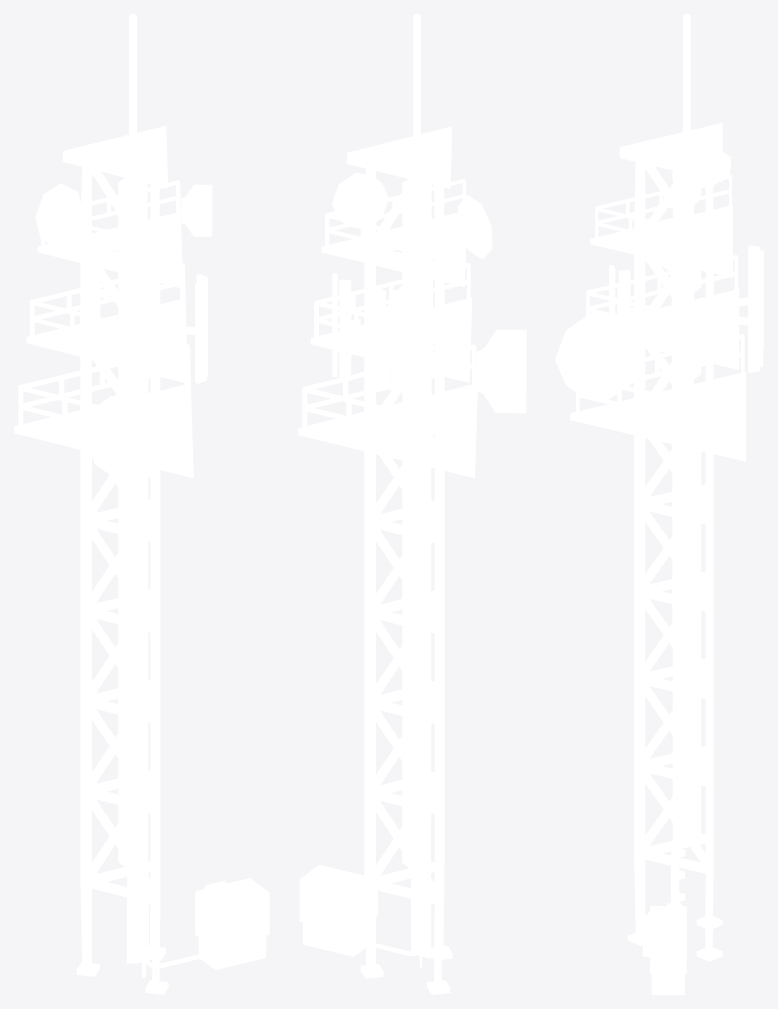
Rendered from cell-tower-triangle.glb.
The picture shows the model from 3 angles, left to right: view 1: azimuth 30°, elevation 25°; view 2: azimuth 150°, elevation 25°; view 3: azimuth 270°, elevation 25°; orthographic projection. The views are drawn at different scales.
Parts seen in each view (by area): view 1: cell-tower-triangle; view 2: cell-tower-triangle; view 3: cell-tower-triangle.
Boxes of the visible parts, bbox=[...] form: cell-tower-triangle: bbox=[14, 14, 269, 994]; cell-tower-triangle: bbox=[298, 14, 526, 994]; cell-tower-triangle: bbox=[555, 14, 763, 994].
Size of the model in its own units: 6.22 by 27.44 by 5.62.
Materials: 1 (1 with a texture image).
